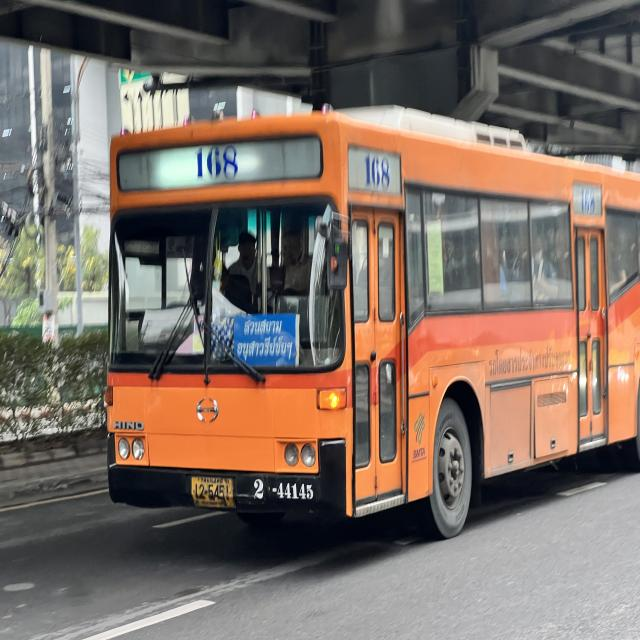BMTA-bus: (103, 109, 640, 540)
Bus-Line-Number: (192, 134, 240, 186), (362, 151, 392, 192)
Destination-Sign-Normal: (232, 312, 300, 367)
